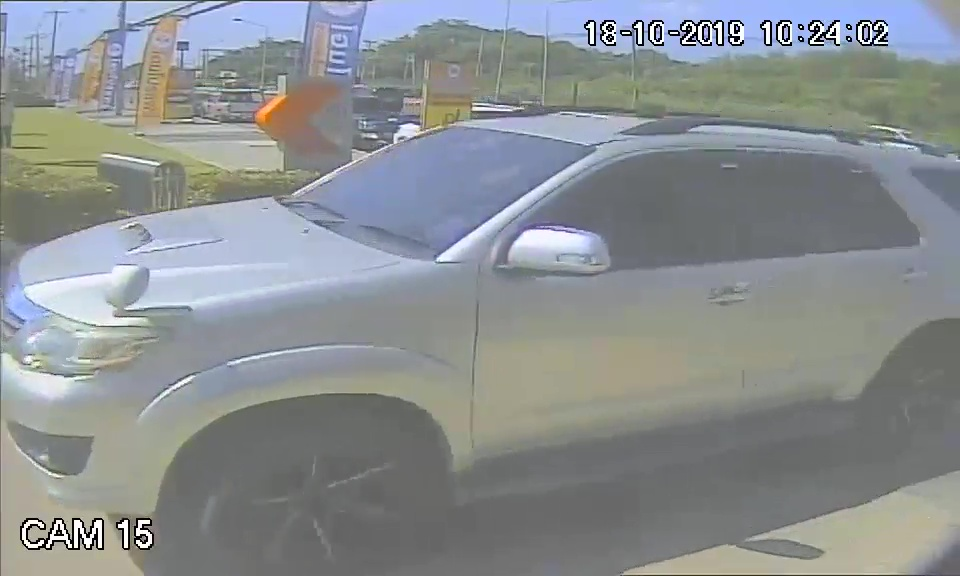pickup: (6, 105, 939, 520)
